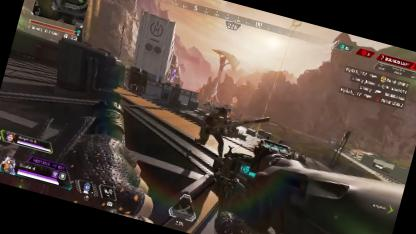Target: (193, 100, 234, 154)
